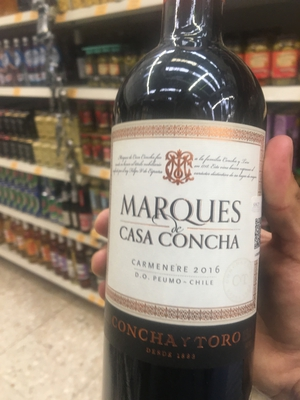marques de casa concha carmenere: (91, 18, 264, 400)
